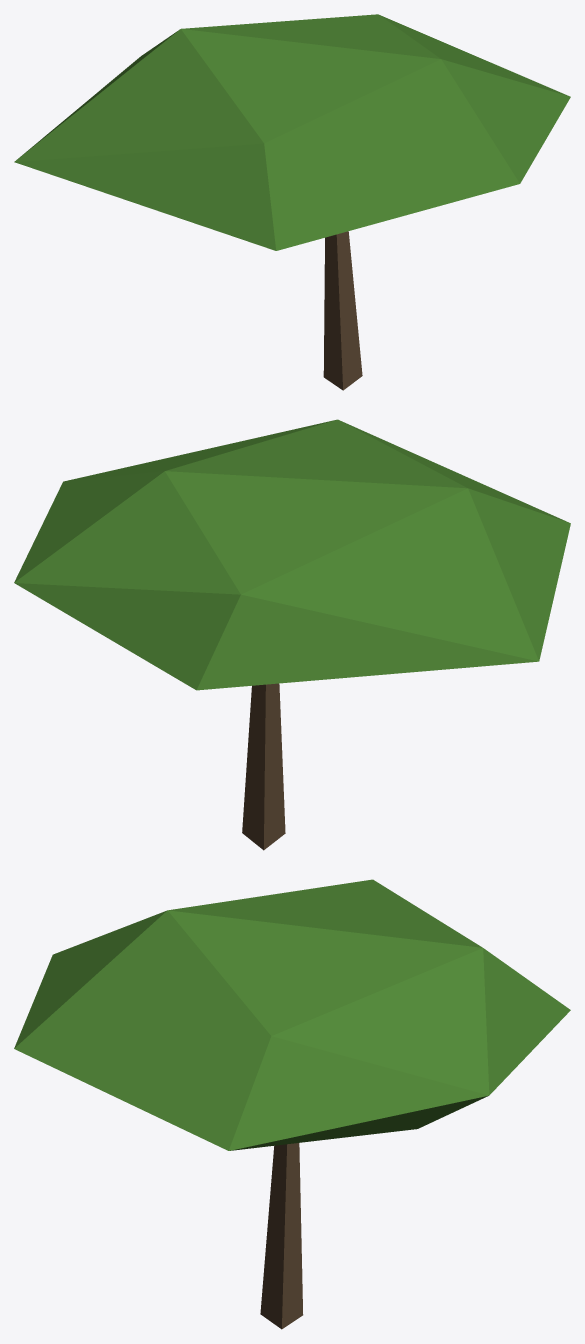
File: umbrella_b_lod2.glb
The picture shows the model from 3 angles, top to bottom: view 1: azimuth 30°, elevation 25°; view 2: azimuth 150°, elevation 25°; view 3: azimuth 270°, elevation 25°; orthographic projection. The views are drawn at different scales.
Parts seen in each view (by area): view 1: umbrella; view 2: umbrella; view 3: umbrella.
Boxes of the visible parts, box(x1,y1,x2,y2) form: umbrella: box(14, 14, 570, 390); umbrella: box(14, 419, 570, 850); umbrella: box(14, 879, 570, 1329).
Size of the model in its own units: 17.71 by 10.63 by 15.78.
